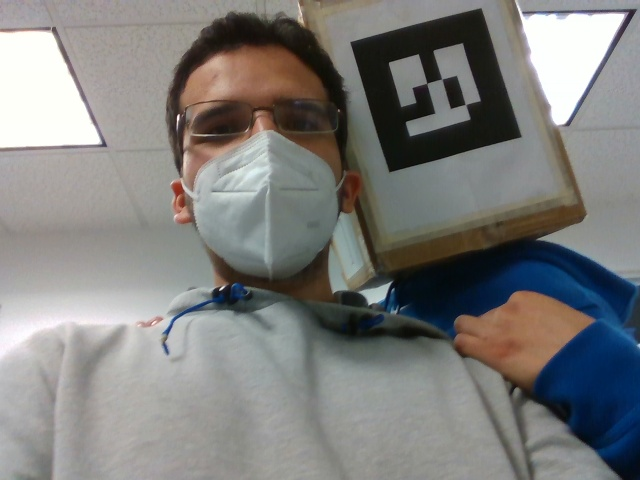ar4: (345, 4, 521, 180)
